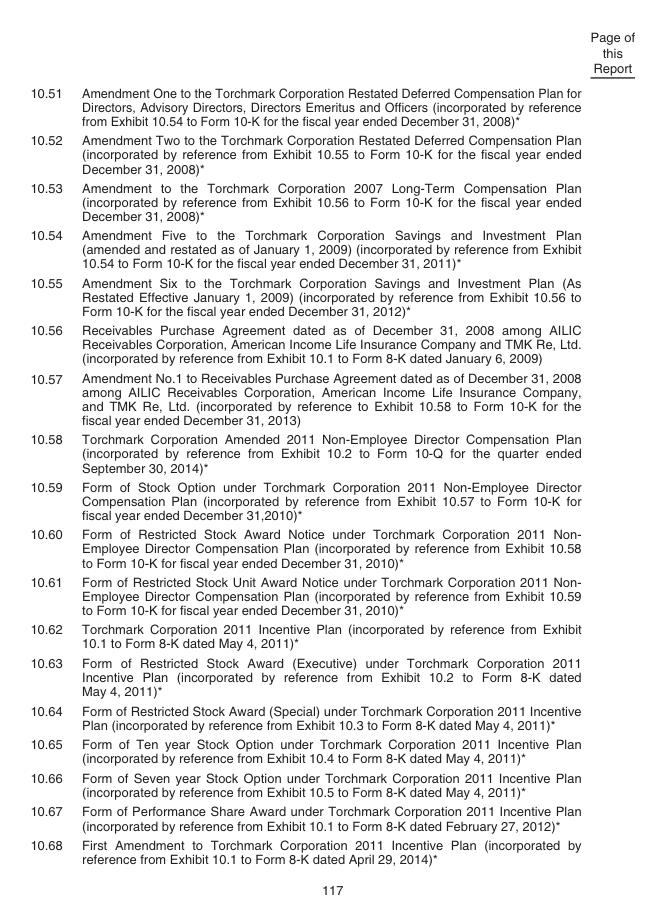table: (29, 29, 634, 866)
table column: (71, 29, 585, 866), (585, 29, 634, 866), (29, 29, 71, 866)
table column header: (29, 29, 634, 79)
table row: (29, 367, 634, 429), (29, 79, 634, 130), (29, 29, 634, 79), (29, 224, 634, 272), (29, 319, 634, 367), (29, 476, 634, 524), (29, 571, 634, 619), (29, 652, 634, 700), (29, 130, 634, 177), (29, 177, 634, 224), (29, 272, 634, 319), (29, 429, 634, 476), (29, 524, 634, 571), (29, 733, 634, 767), (29, 767, 634, 801), (29, 619, 634, 652), (29, 700, 634, 733), (29, 801, 634, 834), (29, 834, 634, 866)
